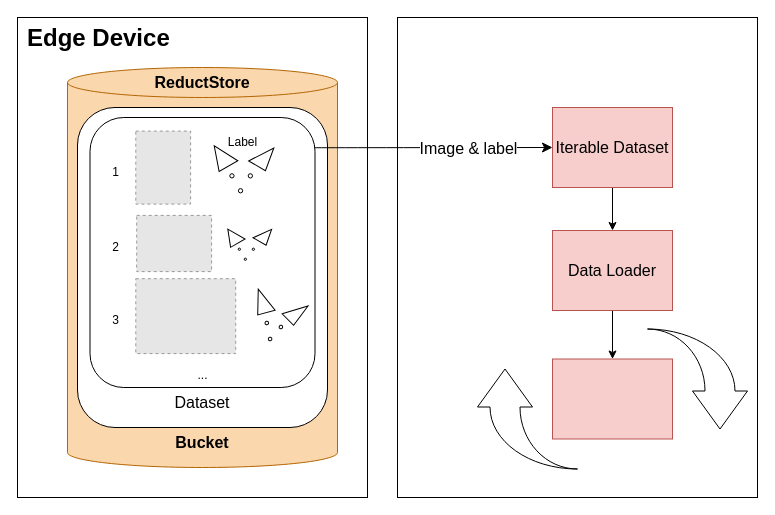
Image size: 775x515. Some labels were removed from this diagram. Grey dashed boxes stand in for pictures. The shapes that lost their labels are listed below. From the top down, each one's box as (x1, y1, x2, y2) in pixels, then its label:
(396, 16, 758, 498): Training Station
(552, 358, 672, 439): Training Loop
